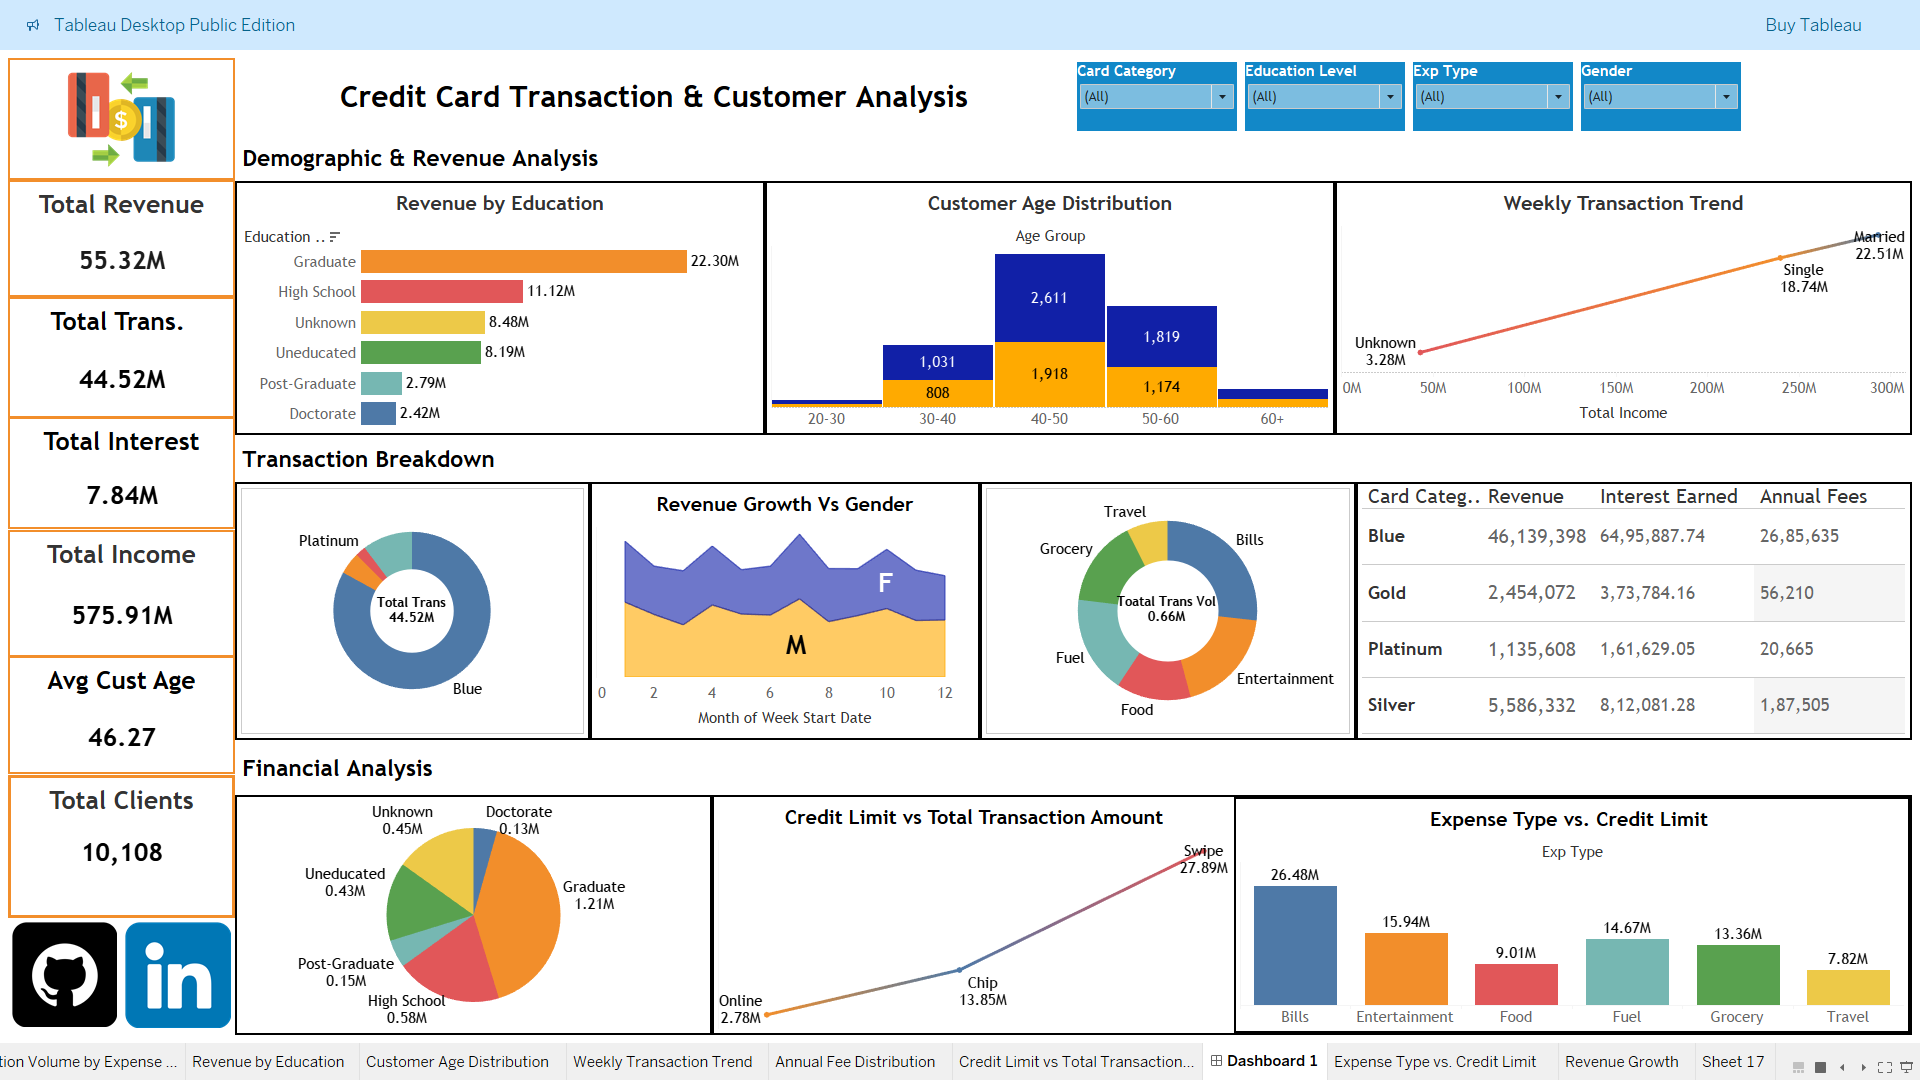

The dashboard page shown, as its layout file describes it:
{"tool":"tableau","page":{"name":"Dashboard 1","canvas":[1000,1000],"units":"permille","ordinal":0},"visuals":[{"type":"text","box":[123,10,436,77.2]},{"type":"filter","title":"Card Category-wise Transaction Breakdown","param":"[federated.0n51hbh068hdzl1403uno0o2vnud].[none:Card_Category:nk]","box":[559,10,101.4,77.2]},{"type":"filter","title":"Card Category-wise Transaction Breakdown","param":"[federated.0n51hbh068hdzl1403uno0o2vnud].[none:Education_Level:nk]","box":[660.4,10,101.4,77.2]},{"type":"filter","title":"Card Category-wise Transaction Breakdown","param":"[federated.0n51hbh068hdzl1403uno0o2vnud].[none:Exp Type:nk]","box":[761.8,10,101.4,77.2]},{"type":"filter","title":"Card Category-wise Transaction Breakdown","param":"[federated.0n51hbh068hdzl1403uno0o2vnud].[none:Gender:nk]","box":[863.2,10,101.4,77.2]},{"type":"image","param":"Image/card-payment.png","box":[6,12.5,115.8,117.2]},{"type":"text","box":[123,87.2,872.1,46.2]},{"type":"worksheet","title":"Total Revenue","mark":"Automatic","box":[6,134.7,115.8,112.4]},{"type":"worksheet","title":"Revenue by Education","mark":"Automatic","rows":["Education_Level"],"cols":["Calculation_1311673397366808579"],"box":[124.3,136,273.3,249.6]},{"type":"worksheet","title":"Customer Age Distribution","mark":"Bar","rows":["Client_Num"],"cols":["Calculation_1311673397350072320"],"box":[400,136,294,249.6]},{"type":"worksheet","title":"Weekly Transaction Trend","mark":"Line","rows":["Calculation_1270578050867339264"],"cols":["Calculation_1270578050868625410"],"box":[696.4,136,297.6,249.6]},{"type":"worksheet","title":"Total Transaction Amount","mark":"Automatic","box":[6,252.1,115.8,116]},{"type":"worksheet","title":"Total Interest Earned","mark":"Automatic","box":[6,373.1,115.8,107.4]},{"type":"text","box":[123,388.1,872.1,47.4]},{"type":"worksheet","title":"Card Category-wise Transaction Breakdown","mark":"Automatic","rows":["Calculation_1270578050870829061","Calculation_1270578050870829061"],"box":[124.3,438,182.1,253.5]},{"type":"worksheet","title":"Revenue Growth ","mark":"Area","rows":["Calculation_1311673397366206466"],"cols":["Week_Start_Date"],"box":[308.7,438,200.6,253.5]},{"type":"worksheet","title":"Transaction Volume by Expense Type","mark":"Automatic","rows":["Calculation_1270578050870829061","Calculation_1270578050870829061"],"box":[511.8,438,193.1,253.5]},{"type":"worksheet","title":"Card Category ","mark":"Automatic","rows":["Card_Category","Calculation_1311673397366808579","Interest_Earned","Annual_Fees"],"box":[707.3,438,286.7,253.5]},{"type":"worksheet","title":"Total Income","mark":"Automatic","box":[6,485.5,115.8,122.4]},{"type":"worksheet","title":"average customer age","mark":"Automatic","box":[6,612.8,115.8,113.5]},{"type":"text","box":[123,694,872.1,54.9]},{"type":"worksheet","title":"Total Clients","mark":"Automatic","box":[6.6,732.6,114.6,131.1]},{"type":"worksheet","title":"Annual Fee Distribution","mark":"Pie","box":[124.3,751.4,245.6,236.1]},{"type":"worksheet","title":"Credit Limit vs Total Transaction Amount","mark":"Line","rows":["Credit_Limit"],"cols":["Calculation_1270578050867339264"],"box":[372.2,751.4,313.8,236.1]},{"type":"worksheet","title":"Expense Type vs. Credit Limit ","mark":"Automatic","rows":["Credit_Limit"],"cols":["Exp Type"],"box":[687.3,753.9,305.5,231.1]},{"type":"image","param":"Image/github.png","box":[4.8,872.5,59,117.5]},{"type":"image","param":"Image/linkedin.png","box":[63.9,872.5,59.2,117.5]}]}

Visuals, with their boxes on the dashboard's canvas, which has no fixed pixel size, in thousandths of its width and height (x1, y1, x2, y2). These are canvas units, not pixel positions in the 1920x1080 screenshot, which may show the page scaled, cropped or inside an application window:
text: {"x1": 123, "y1": 10, "x2": 559, "y2": 87}
"Card Category-wise Transaction Breakdown" filter: {"x1": 559, "y1": 10, "x2": 660, "y2": 87}
"Card Category-wise Transaction Breakdown" filter: {"x1": 660, "y1": 10, "x2": 762, "y2": 87}
"Card Category-wise Transaction Breakdown" filter: {"x1": 762, "y1": 10, "x2": 863, "y2": 87}
"Card Category-wise Transaction Breakdown" filter: {"x1": 863, "y1": 10, "x2": 965, "y2": 87}
image: {"x1": 6, "y1": 12, "x2": 122, "y2": 130}
text: {"x1": 123, "y1": 87, "x2": 995, "y2": 133}
"Total Revenue" worksheet: {"x1": 6, "y1": 135, "x2": 122, "y2": 247}
"Revenue by Education" worksheet: {"x1": 124, "y1": 136, "x2": 398, "y2": 386}
"Customer Age Distribution" worksheet (Bar marks): {"x1": 400, "y1": 136, "x2": 694, "y2": 386}
"Weekly Transaction Trend" worksheet (Line marks): {"x1": 696, "y1": 136, "x2": 994, "y2": 386}
"Total Transaction Amount" worksheet: {"x1": 6, "y1": 252, "x2": 122, "y2": 368}
"Total Interest Earned" worksheet: {"x1": 6, "y1": 373, "x2": 122, "y2": 480}
text: {"x1": 123, "y1": 388, "x2": 995, "y2": 436}
"Card Category-wise Transaction Breakdown" worksheet: {"x1": 124, "y1": 438, "x2": 306, "y2": 692}
"Revenue Growth " worksheet (Area marks): {"x1": 309, "y1": 438, "x2": 509, "y2": 692}
"Transaction Volume by Expense Type" worksheet: {"x1": 512, "y1": 438, "x2": 705, "y2": 692}
"Card Category " worksheet: {"x1": 707, "y1": 438, "x2": 994, "y2": 692}
"Total Income" worksheet: {"x1": 6, "y1": 486, "x2": 122, "y2": 608}
"average customer age" worksheet: {"x1": 6, "y1": 613, "x2": 122, "y2": 726}
text: {"x1": 123, "y1": 694, "x2": 995, "y2": 749}
"Total Clients" worksheet: {"x1": 7, "y1": 733, "x2": 121, "y2": 864}
"Annual Fee Distribution" worksheet (Pie marks): {"x1": 124, "y1": 751, "x2": 370, "y2": 988}
"Credit Limit vs Total Transaction Amount" worksheet (Line marks): {"x1": 372, "y1": 751, "x2": 686, "y2": 988}
"Expense Type vs. Credit Limit " worksheet: {"x1": 687, "y1": 754, "x2": 993, "y2": 985}
image: {"x1": 5, "y1": 872, "x2": 64, "y2": 990}
image: {"x1": 64, "y1": 872, "x2": 123, "y2": 990}
